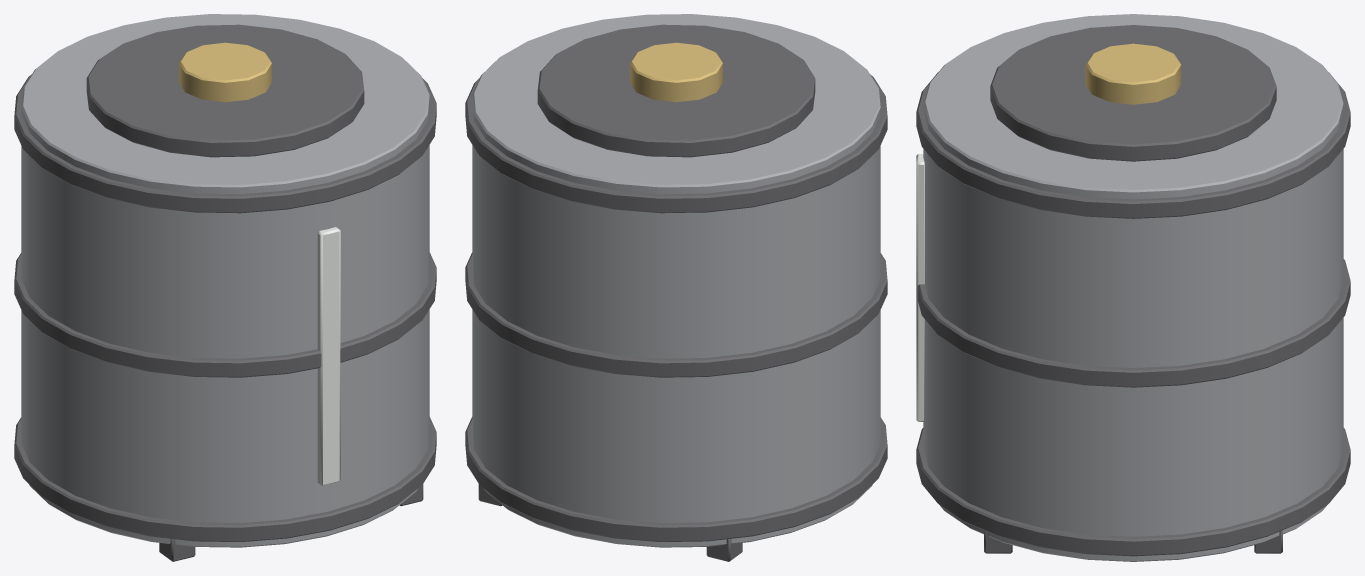
Rendered from feWaterTank.fbx.
3 views of the same model, side by side, from view 1: azimuth 30°, elevation 25°; view 2: azimuth 150°, elevation 25°; view 3: azimuth 270°, elevation 25° (orthographic). The views are drawn at different scales.
Visible parts, largest first — view 1: feWaterTank_Base; view 2: feWaterTank_Base; view 3: feWaterTank_Base.
Boxes of the visible parts, x1=… form: feWaterTank_Base: x1=14, y1=14, x2=436, y2=561; feWaterTank_Base: x1=465, y1=14, x2=887, y2=561; feWaterTank_Base: x1=916, y1=14, x2=1350, y2=561.
Bounding box in the file's own units: 0.91 × 0.99 × 0.91.
